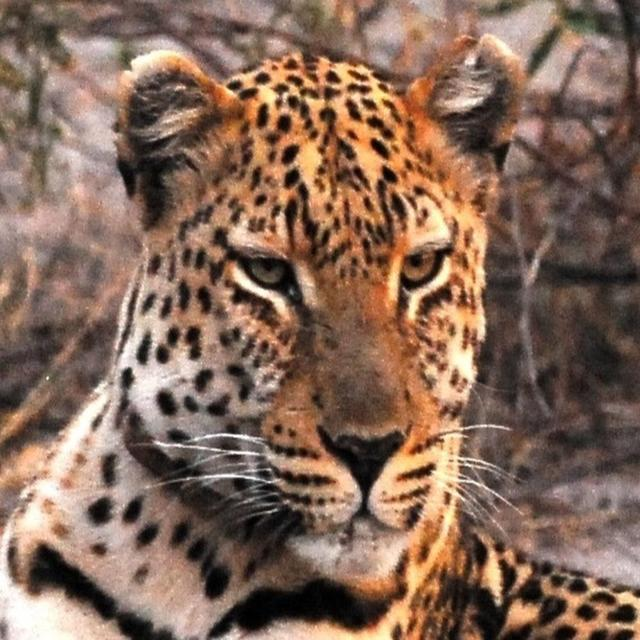Leopard: (2, 30, 622, 640)
